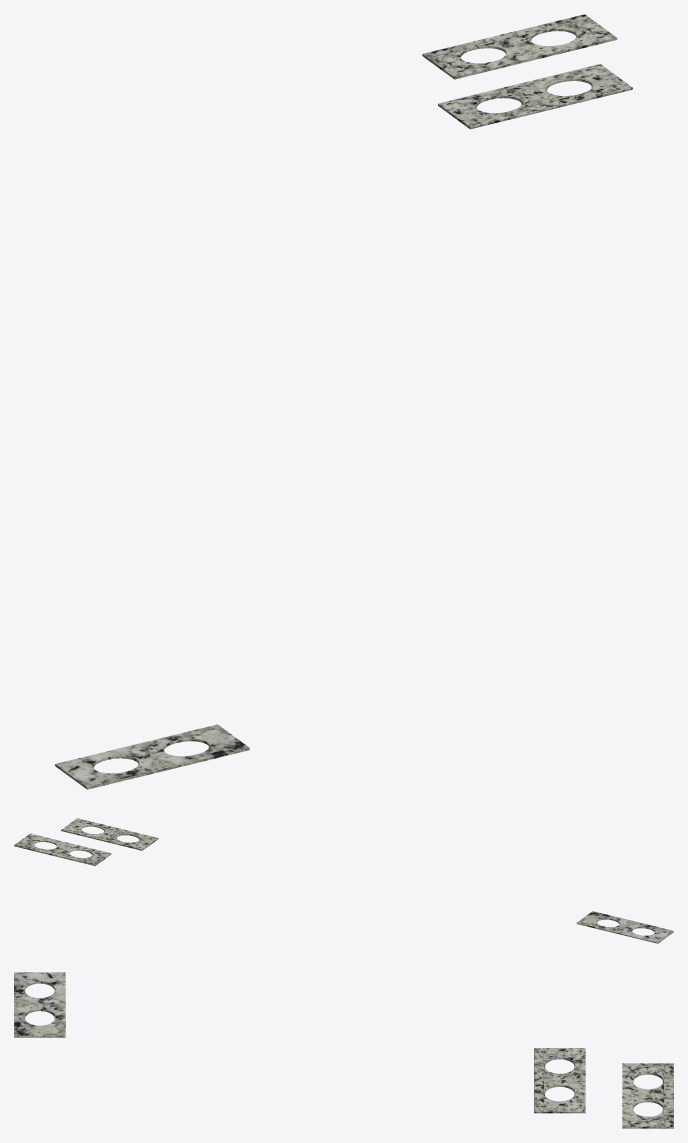
File: Countertops_Granite_Valle_Nevado.glb
3 views of the same model, one above another, from view 1: azimuth 30°, elevation 25°; view 2: azimuth 150°, elevation 25°; view 3: azimuth 270°, elevation 25° (orthographic). The views are drawn at different scales.
Visible parts, largest first — view 1: Bathroom_Counter_tops_Granite_Valle_Nevado_2345; view 2: Bathroom_Counter_tops_Granite_Valle_Nevado_2345; view 3: Bathroom_Counter_tops_Granite_Valle_Nevado_2345.
Boxes of the visible parts, <box> form: Bathroom_Counter_tops_Granite_Valle_Nevado_2345: <box>55,14,632,789</box>; Bathroom_Counter_tops_Granite_Valle_Nevado_2345: <box>14,818,673,943</box>; Bathroom_Counter_tops_Granite_Valle_Nevado_2345: <box>14,972,673,1128</box>.
Bounding box in the file's own units: 16.21 × 4.31 × 12.7.
Materials: 1 (1 with a texture image).
